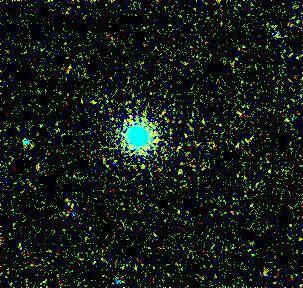star: (142, 126, 172, 156)
